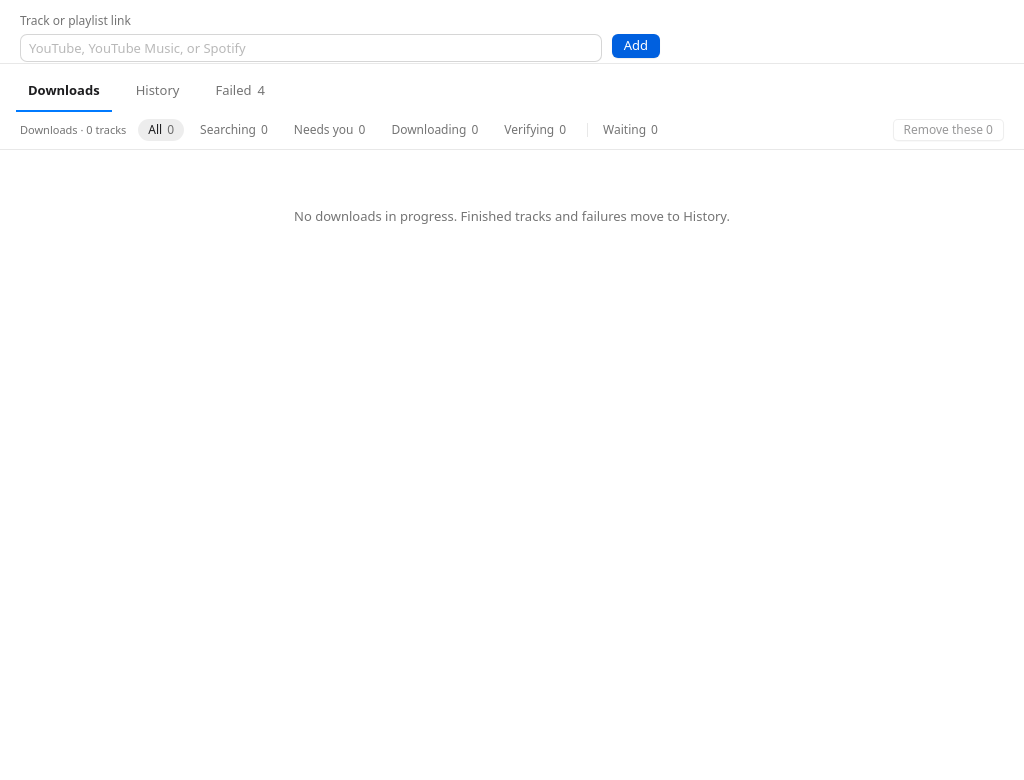
Test case: Retry all on the Failed tab › counts only the failed rows that can actually be re-queued
Click the tab "Failed 4": (240, 92) left=203, top=72, right=277, bottom=112
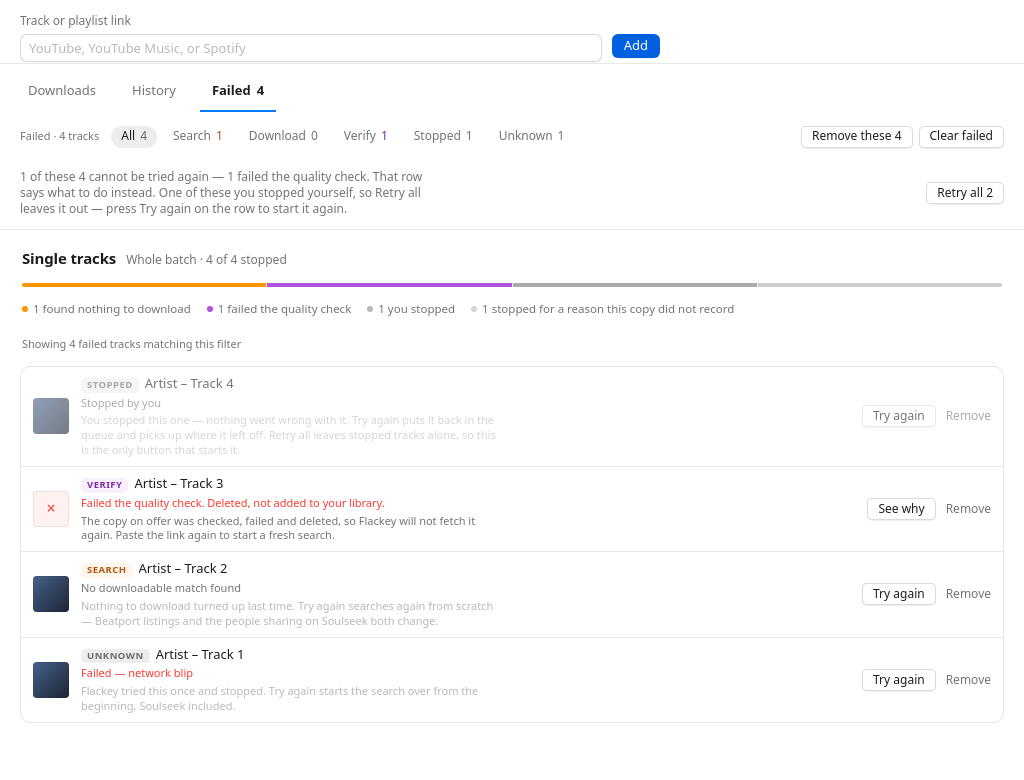
Expected: the button "Retry all 2" is shown, left=926, top=182, right=1004, bottom=204
